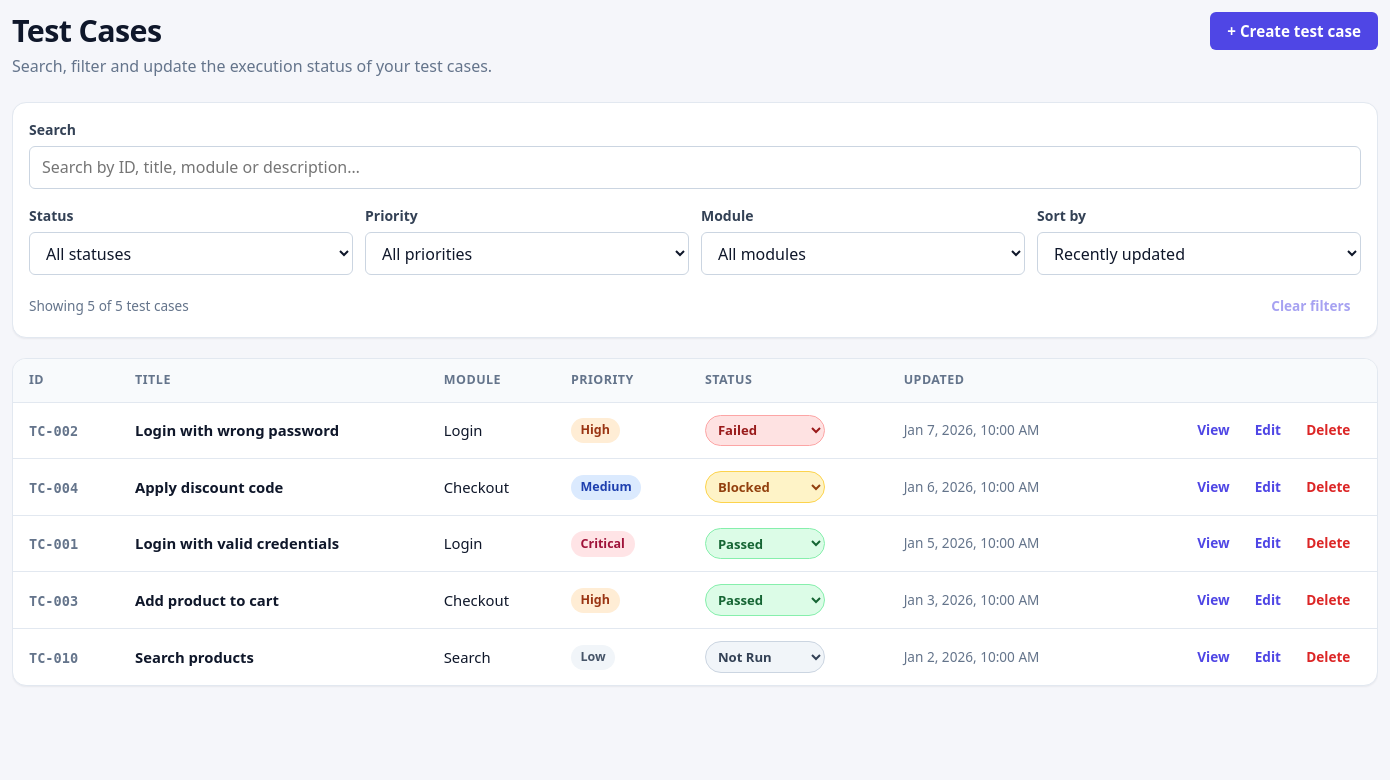
TestCaseList › shows an empty state when nothing matches
In the search field labelled "Search": {"x": 695, "y": 167} [29,146,1361,189], type "does-not-exist"
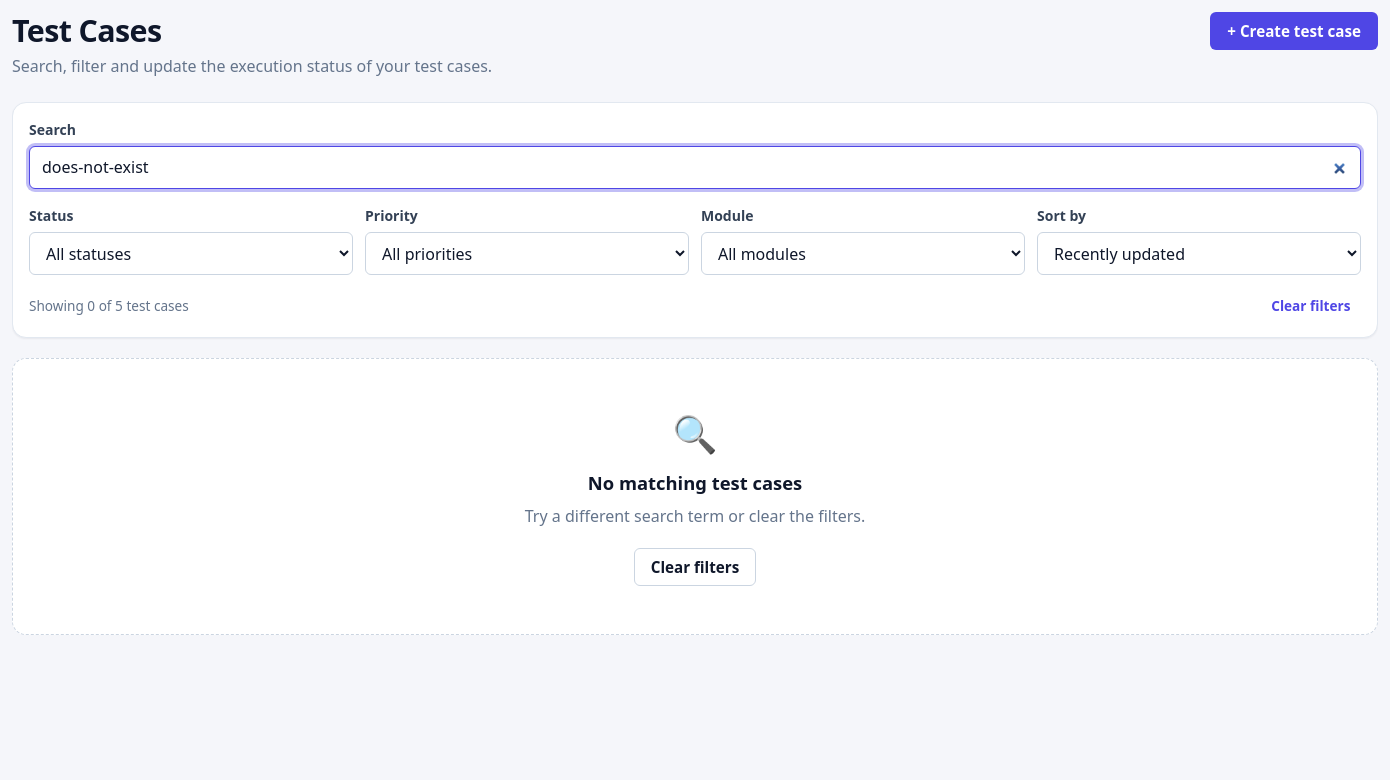
Expected: the heading "No matching test cases" is shown, [588,469,802,496]
Expected: the table is gone
